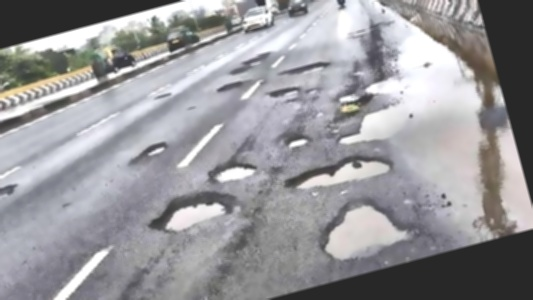pothole: (310, 185, 419, 266), (281, 144, 396, 200), (144, 182, 239, 238), (330, 102, 403, 149), (207, 155, 258, 187), (225, 47, 275, 77), (279, 57, 330, 80), (0, 180, 21, 217), (138, 139, 168, 160), (214, 77, 244, 95), (272, 83, 302, 100), (284, 132, 311, 149)
